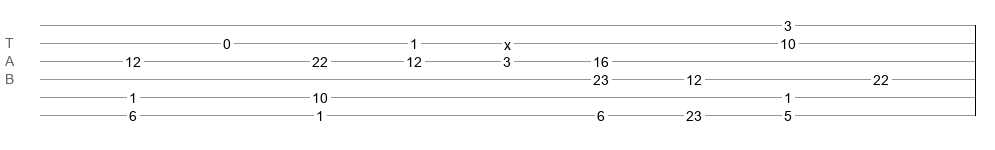0: (223, 36, 231, 46)
1: (129, 90, 137, 100), (316, 108, 324, 118), (410, 36, 418, 46), (784, 90, 792, 100)
10: (312, 90, 328, 100), (780, 36, 796, 46)
12: (125, 54, 141, 64), (406, 54, 422, 64), (686, 72, 702, 82)
16: (593, 54, 609, 64)
22: (312, 54, 328, 64), (873, 72, 889, 82)
23: (593, 72, 609, 82), (686, 108, 702, 118)
3: (503, 54, 511, 64), (784, 18, 792, 28)
5: (784, 108, 792, 118)
6: (129, 108, 137, 118), (597, 108, 605, 118)
x: (504, 37, 511, 45)
